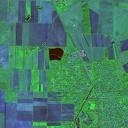alloviz: (47, 46, 65, 61)
